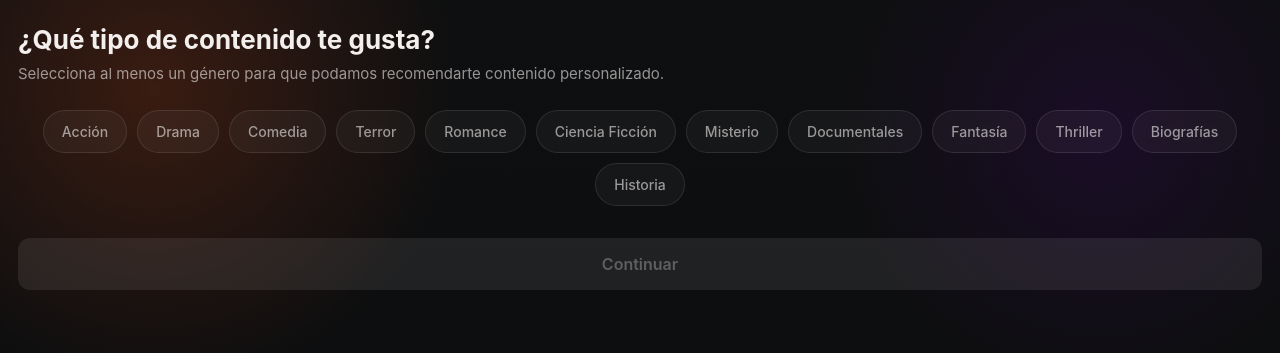
Scenario: Onboarding › enables 'Continuar' button after selecting a genre
The width and height of the screenshot is (1280, 353).
Click the button "Ciencia Ficción": (606, 131) [536,110,676,153]
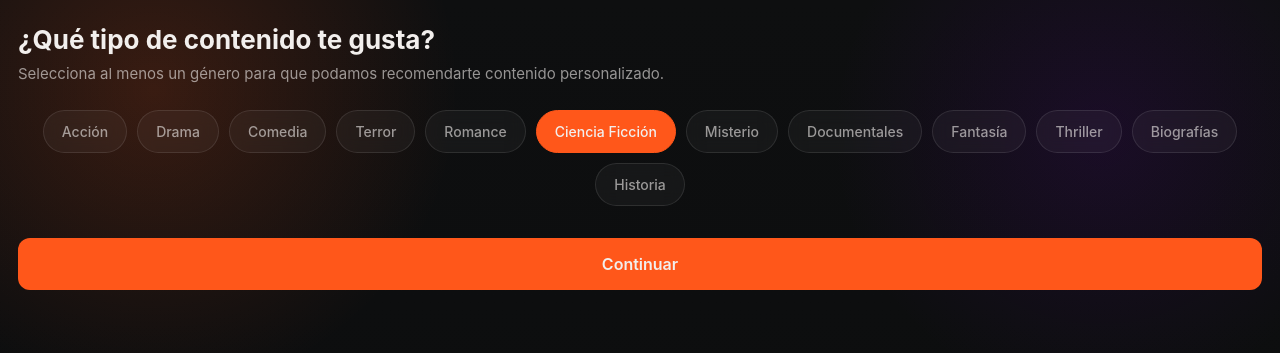
Expected: the button "Continuar" is enabled, [18,238,1262,290]
